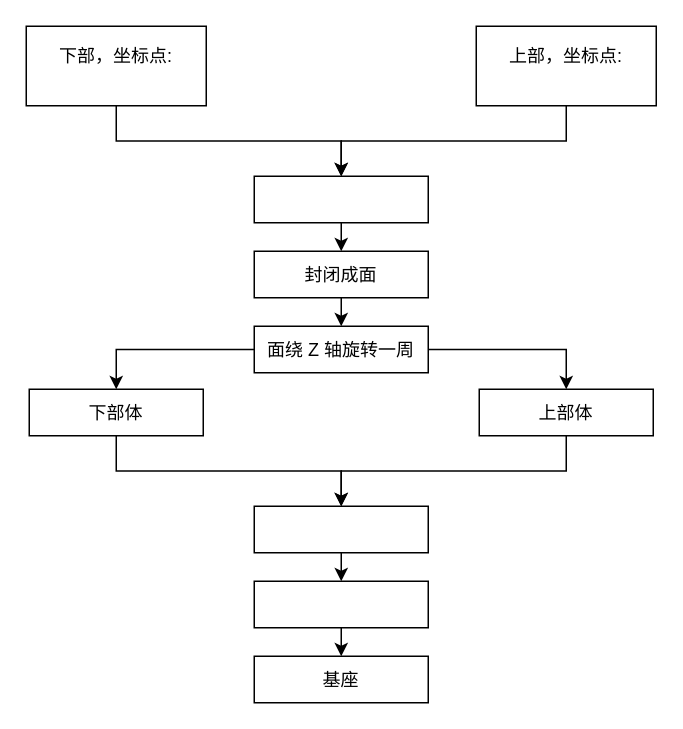
Some shapes in this 683 by 729 pixel diagram are drawn without their labels. Here are the shapes that lost their labels. From the top down, the centre of each, then its label:
the point at 340,199: 分别连点成线
the point at 340,529: 上下合并成体
the point at 340,604: 棱边倒圆角
